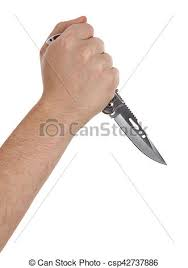knife: (43, 29, 169, 167)
